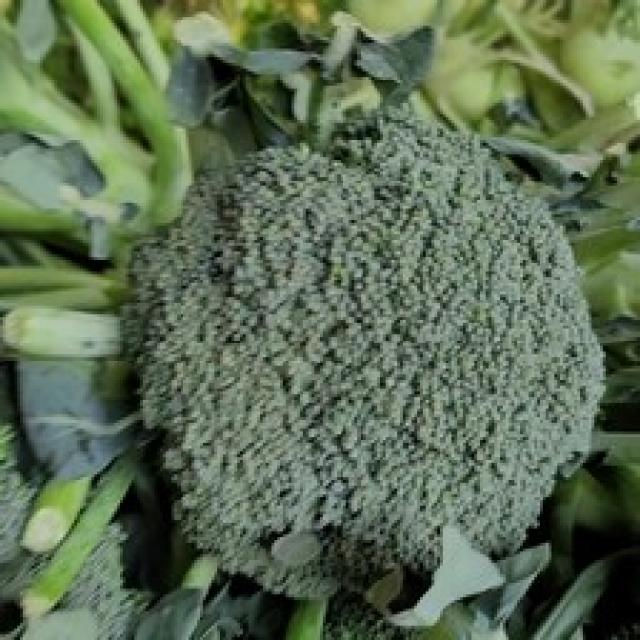Broccoli: (135, 109, 602, 586), (135, 109, 602, 586)
